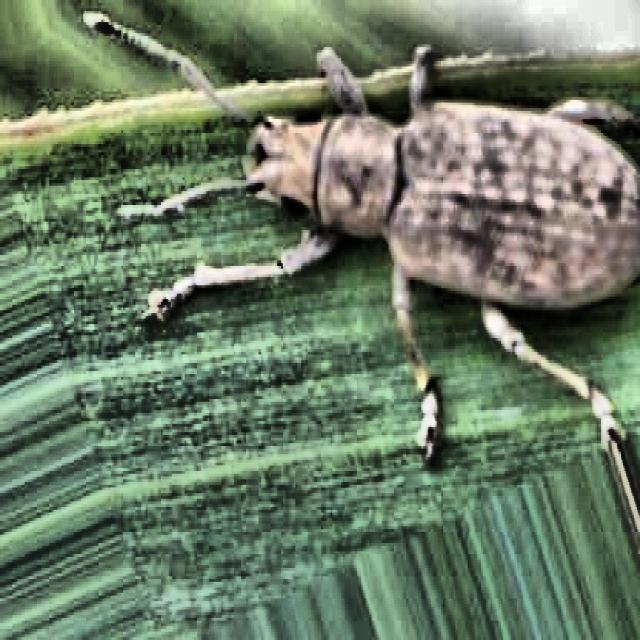Stink bug: (152, 25, 640, 440)
